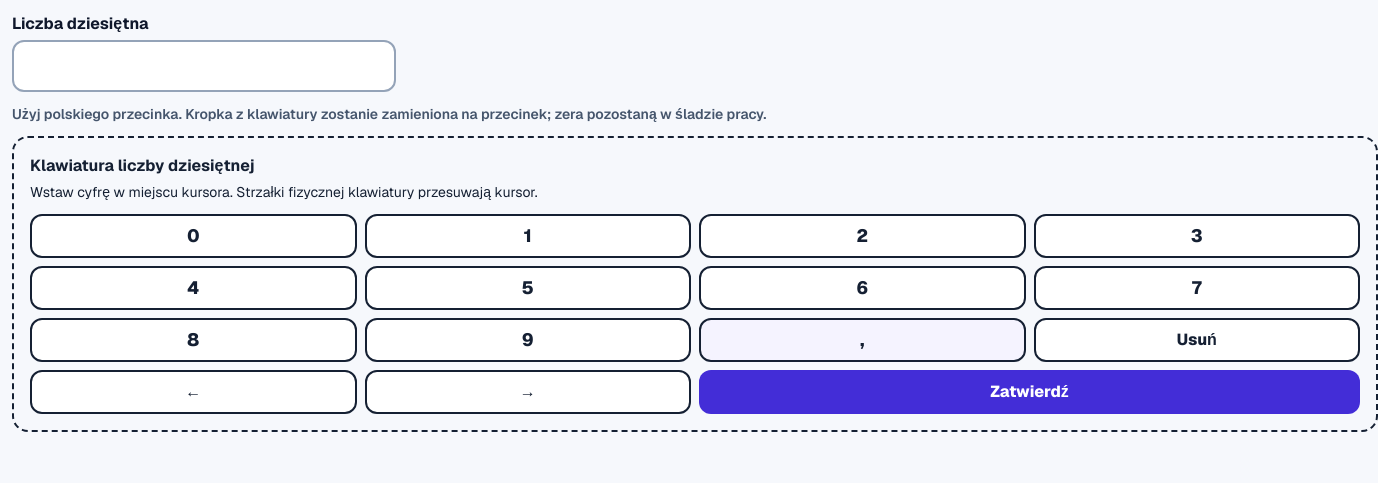
DecimalDigitInput › jest polem tekstowym, zamienia kropkę fizycznej klawiatury na przecinek i zachowuje zera
Type "2.50" into the field labelled "Liczba dziesiętna". click: (204, 66)
box: [12, 40, 396, 92]
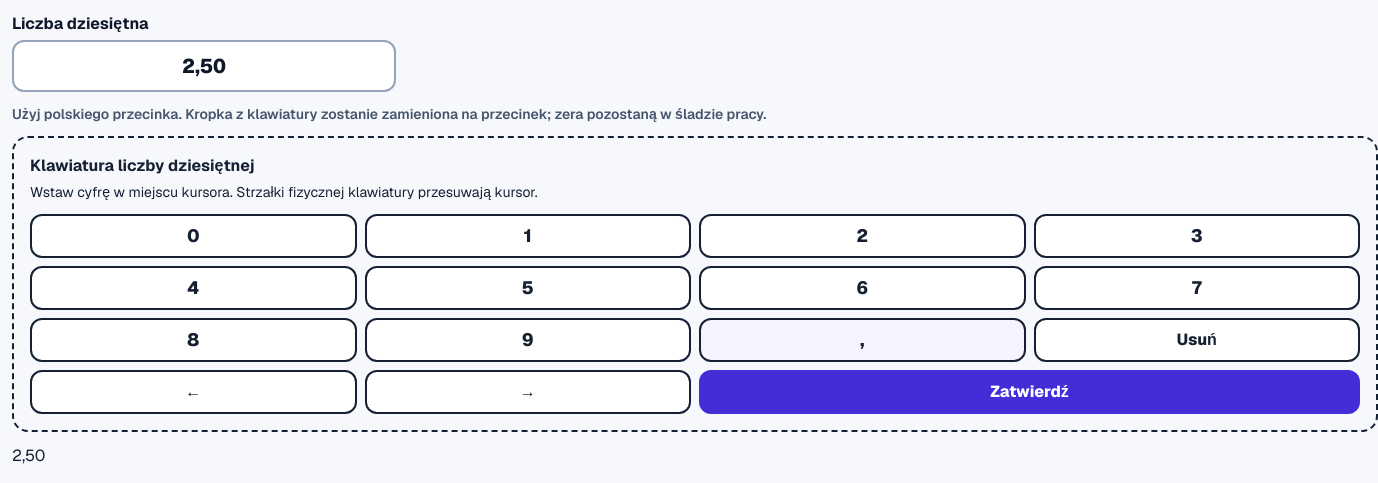
Result: the field labelled "Liczba dziesiętna" holds "2,50" at [12, 40, 396, 92]
Result: the text with test id "digit-state" reads "2,50" at [12, 445, 45, 466]
